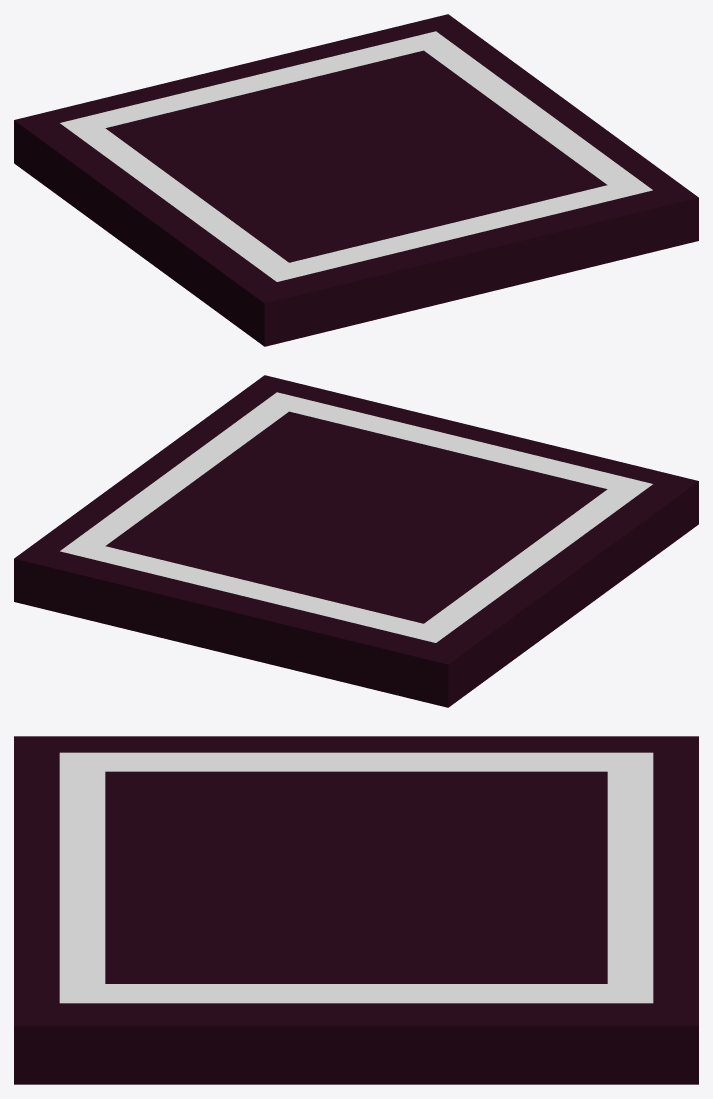
Rendered from skrzyzowanie.fbx.
3 renders of one model, top to bottom at view 1: azimuth 30°, elevation 25°; view 2: azimuth 150°, elevation 25°; view 3: azimuth 270°, elevation 25°, orthographic. The views are drawn at different scales.
Visible parts, largest first — view 1: Pasek.001; view 2: Pasek.001; view 3: Pasek.001.
Boxes of the visible parts, left/top/right/bottom form: Pasek.001: left=14, top=14, right=698, bottom=346; Pasek.001: left=14, top=375, right=698, bottom=707; Pasek.001: left=14, top=736, right=698, bottom=1084.
Size of the model in its own units: 200 by 200 by 20.
